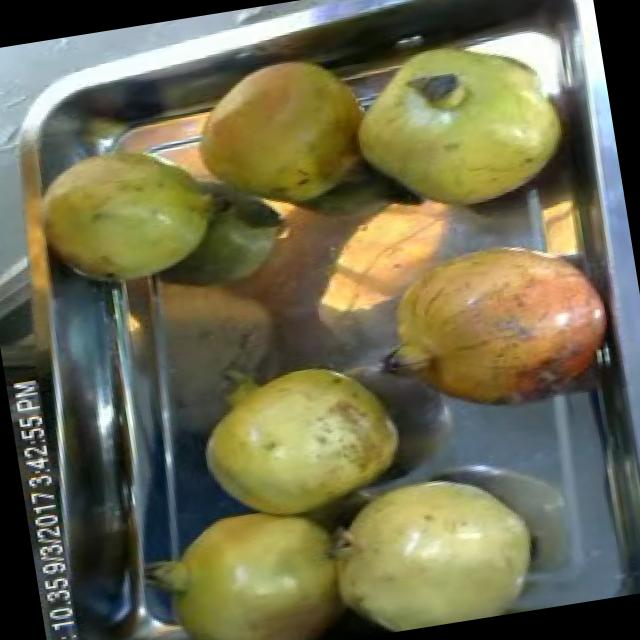fruit: (368, 215, 634, 438), (325, 10, 591, 232), (176, 328, 427, 537), (304, 451, 561, 640), (166, 32, 396, 230), (14, 118, 238, 312), (136, 478, 369, 640)
